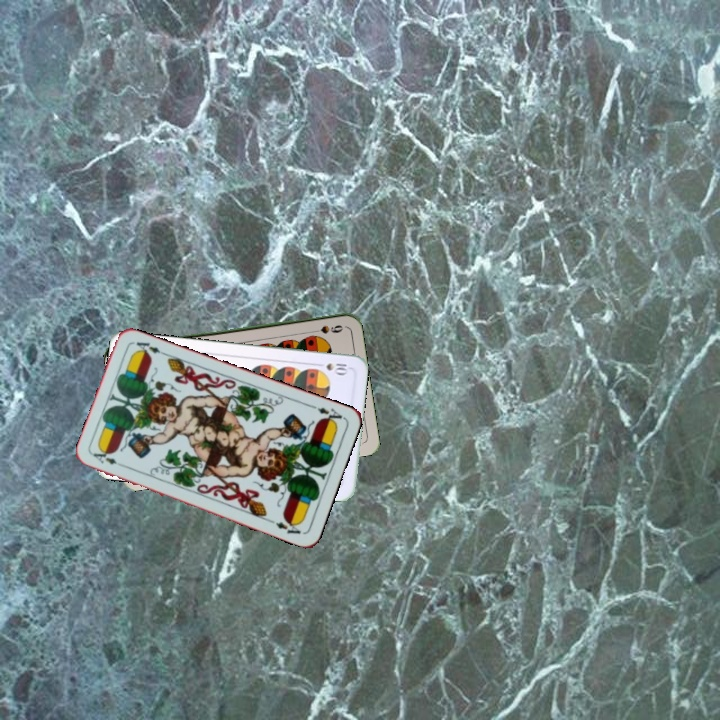EA: (307, 401, 346, 426), (89, 449, 119, 467)
S10: (312, 359, 352, 376)
S9: (305, 321, 345, 335)
